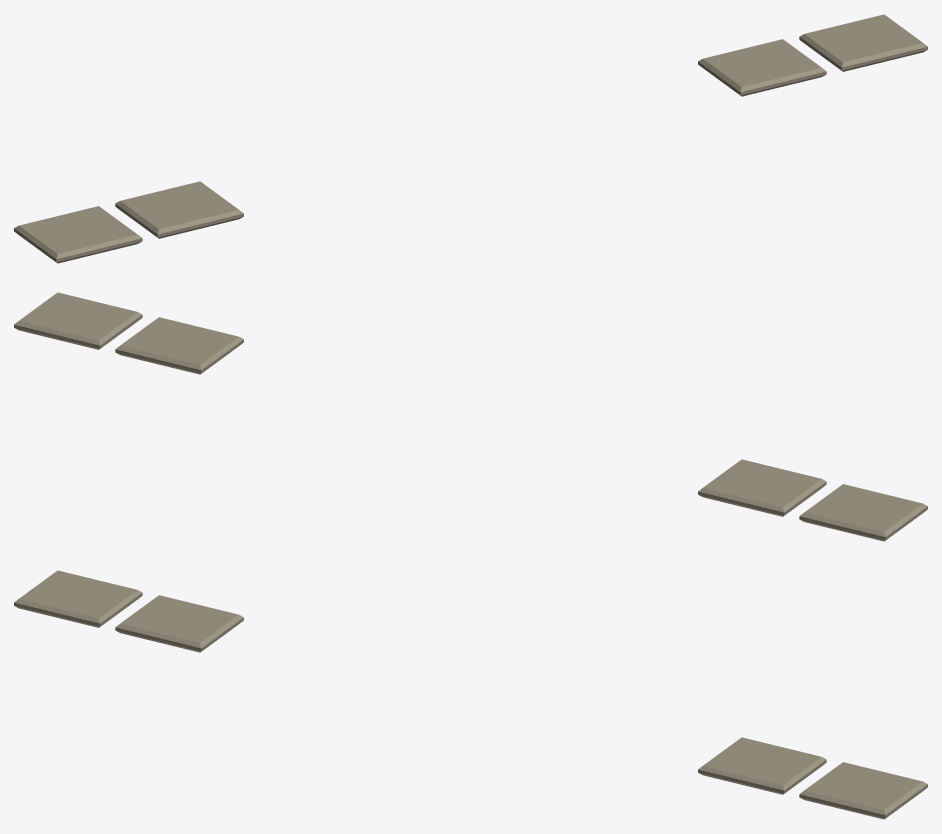
Rendered from env_plaza_market_a.glb.
The picture shows the model from 3 angles, top to bottom: view 1: azimuth 30°, elevation 25°; view 2: azimuth 150°, elevation 25°; view 3: azimuth 330°, elevation 25°; orthographic projection.
Parts seen in each view (by area): view 1: lod0__env_plaza_market_a; view 2: lod0__env_plaza_market_a; view 3: lod0__env_plaza_market_a.
Part boxes in pixels (box(x1,y1,x2,y2)): lod0__env_plaza_market_a: box(14, 14, 927, 263); lod0__env_plaza_market_a: box(14, 292, 927, 541); lod0__env_plaza_market_a: box(14, 570, 927, 819).
Size of the model in its own units: 3.44 by 0.036 by 0.29.
1 material, 1 textured.
